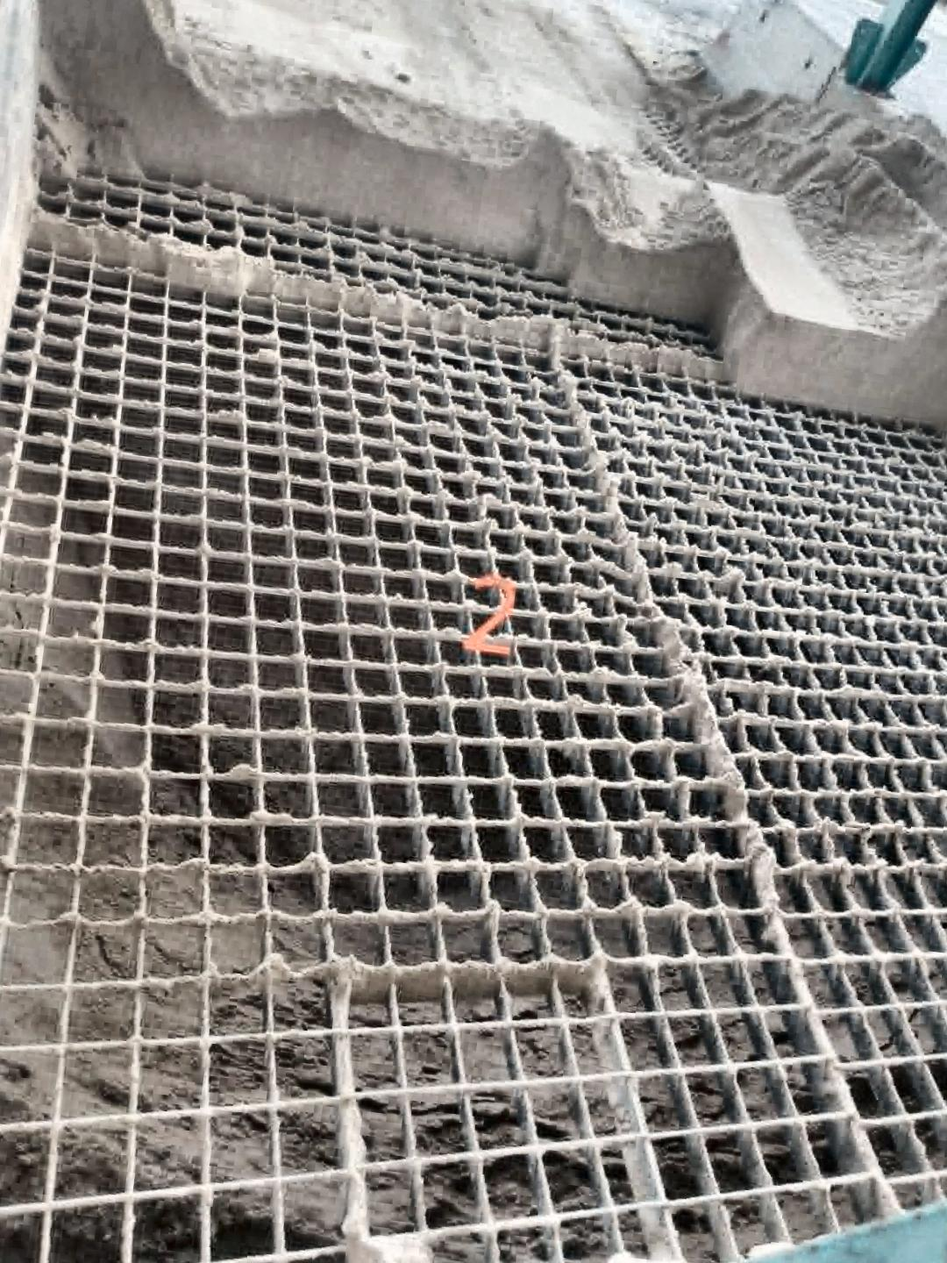sand: (39, 0, 947, 429)
